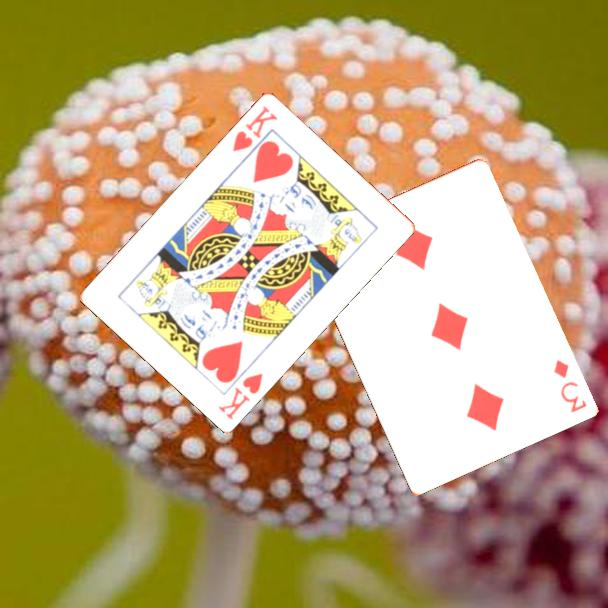d03: (549, 355, 589, 416)
h13: (214, 369, 266, 422), (229, 102, 280, 154)
